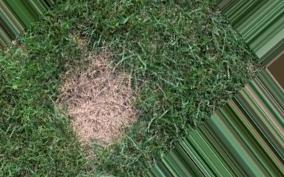patch: (68, 71, 126, 124), (78, 115, 118, 133)
